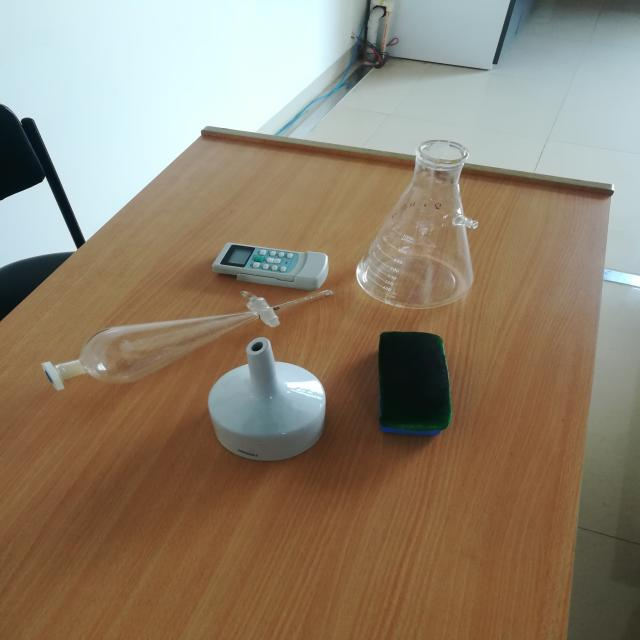Buchner_Funnel: (215, 333, 351, 475)
Conical_Flask: (342, 137, 521, 328)
Separating_Funnel: (20, 270, 325, 382)
